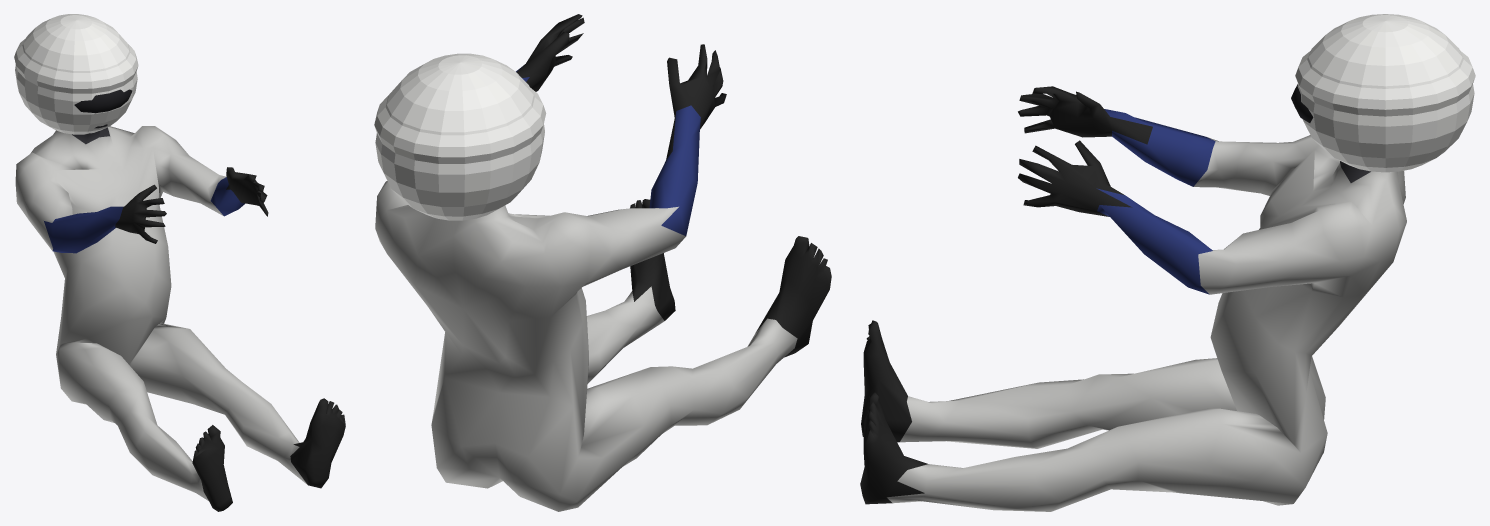
File: driver_4.glb
3 renders of one model, left to right at view 1: azimuth 30°, elevation 25°; view 2: azimuth 150°, elevation 25°; view 3: azimuth 270°, elevation 25°, orthographic. The views are drawn at different scales.
Parts seen in each view (by area): view 1: driver_4 people, driver_4; view 2: driver_4 people, driver_4; view 3: driver_4 people, driver_4.
Part boxes in pixels (x1,y1,x2,y2): driver_4 people: [15, 124, 345, 511]; driver_4: [14, 14, 138, 134]; driver_4 people: [375, 14, 831, 511]; driver_4: [374, 53, 546, 220]; driver_4 people: [860, 86, 1406, 511]; driver_4: [1291, 14, 1475, 172].
Bounding box in the file's own units: 0.5243 × 0.9272 × 1.12.
